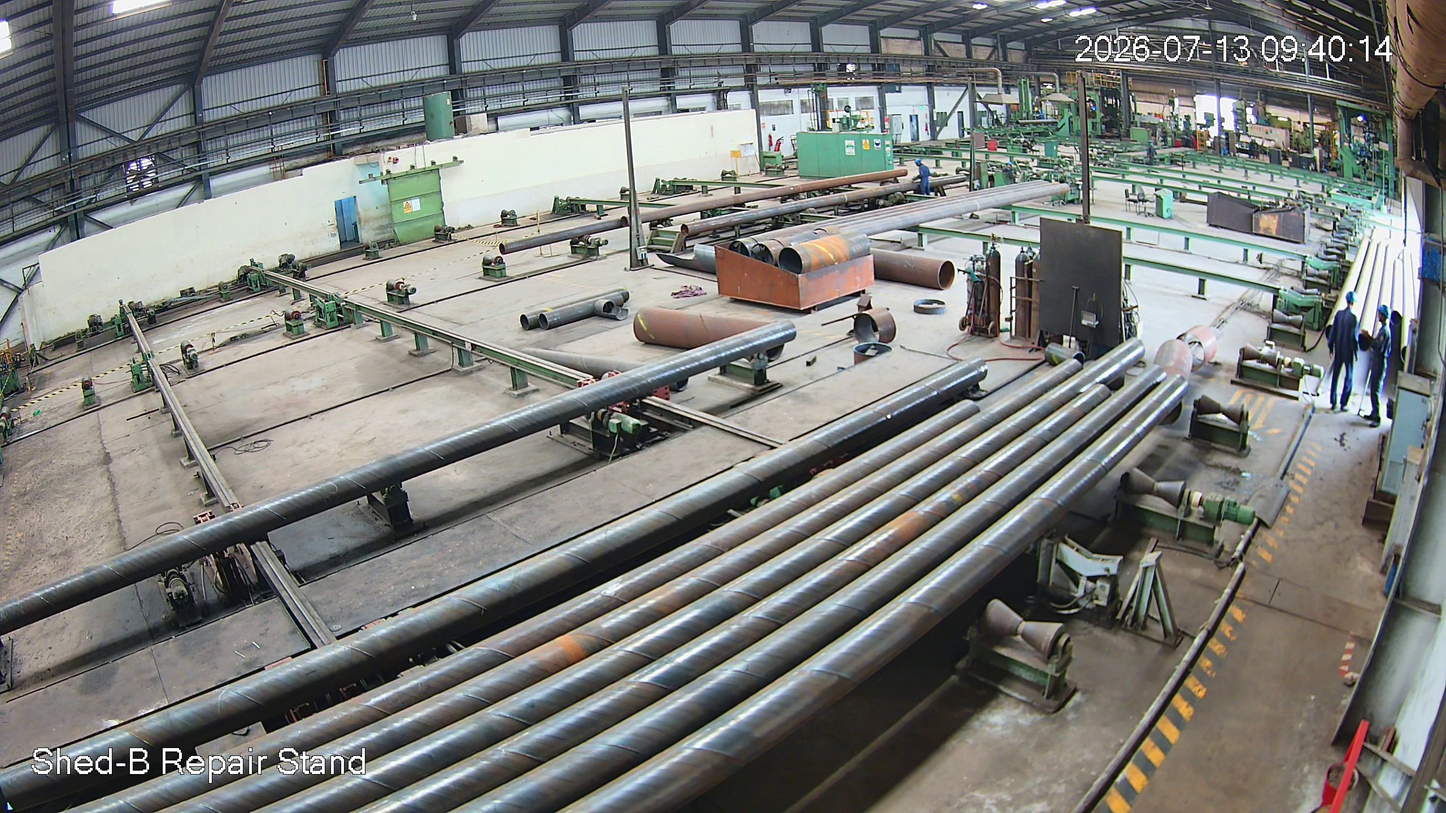Helmet: (1374, 300, 1394, 327), (1343, 290, 1364, 313), (914, 158, 923, 166)
Person: (1326, 293, 1361, 412), (1367, 305, 1397, 420), (913, 159, 930, 195)
